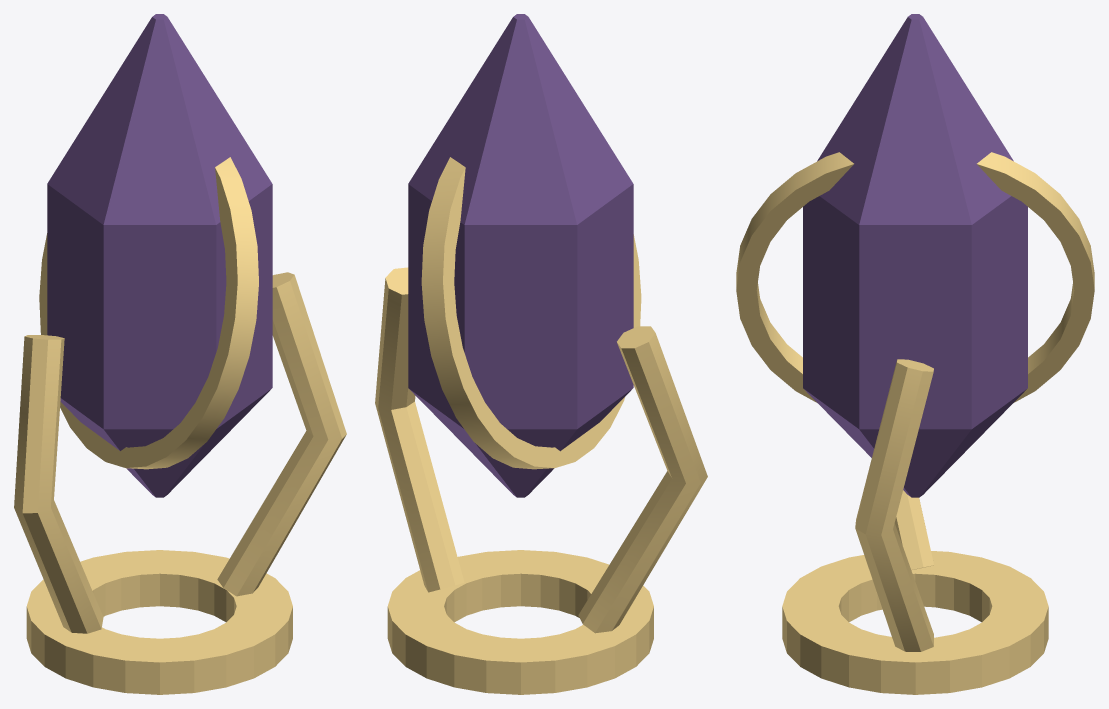
File: orn_crystal.fbx
3 renders of one model, left to right at view 1: azimuth 30°, elevation 25°; view 2: azimuth 150°, elevation 25°; view 3: azimuth 270°, elevation 25°, orthographic.
Visible parts, largest first — view 1: glow_violet_1, gold_1; view 2: glow_violet_1, gold_1; view 3: glow_violet_1, gold_1.
Boxes of the visible parts, box(x1,y1,x2,y2) form: glow_violet_1: box(47, 14, 272, 497); gold_1: box(14, 157, 346, 694); glow_violet_1: box(408, 14, 633, 497); gold_1: box(375, 157, 707, 694); glow_violet_1: box(803, 14, 1027, 497); gold_1: box(736, 152, 1094, 694).
Size of the model in its own units: 0.0136 by 0.0247 by 0.0129.
